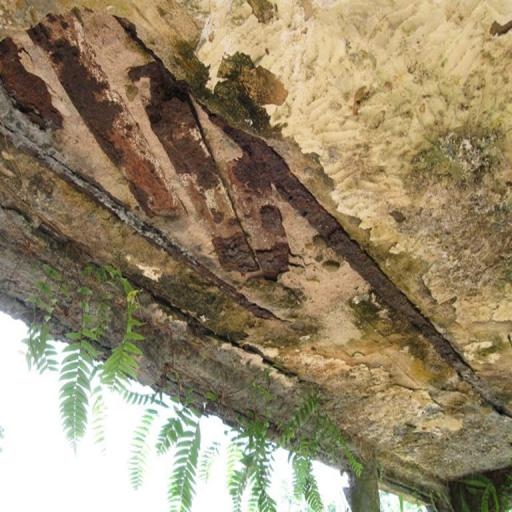spalling: (0, 7, 512, 483)
